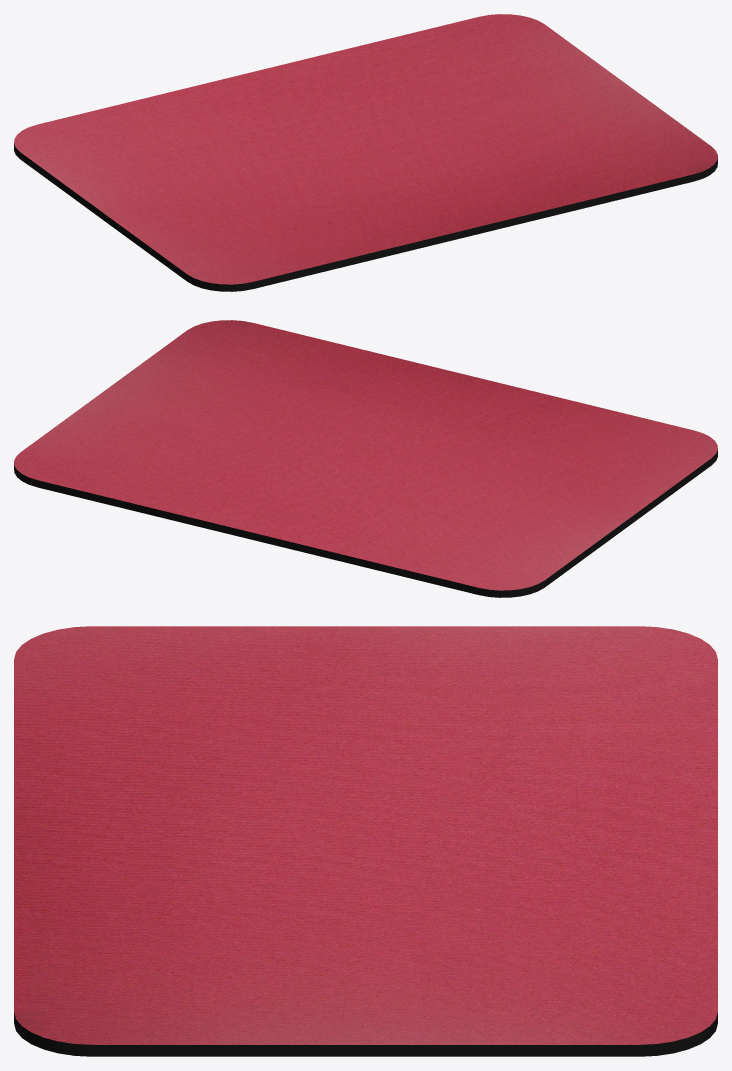
File: Mouse mat.FBX
3 renders of one model, top to bottom at view 1: azimuth 30°, elevation 25°; view 2: azimuth 150°, elevation 25°; view 3: azimuth 270°, elevation 25°, orthographic. The views are drawn at different scales.
Parts seen in each view (by area): view 1: Mouse mat; view 2: Mouse mat; view 3: Mouse mat.
Boxes of the visible parts, left/top/right/bottom form: Mouse mat: left=14, top=14, right=717, bottom=291; Mouse mat: left=14, top=320, right=717, bottom=597; Mouse mat: left=14, top=626, right=717, bottom=1056.
Bounding box in the file's own units: 9.05 × 6.43 × 0.12.
1 material, 1 textured.
